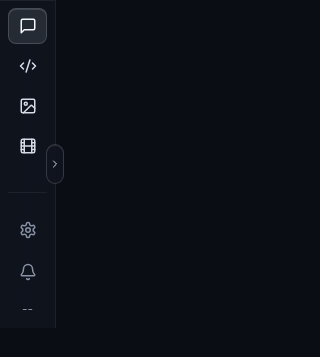
Test case: Sidebar › toggles the edge pill without navigating modules
What coordinates should you click on to do the following:
click the button with test id "sidebar-collapse-toggle"
I would click on:
 (55, 164)
Its box is [46,144,64,184].
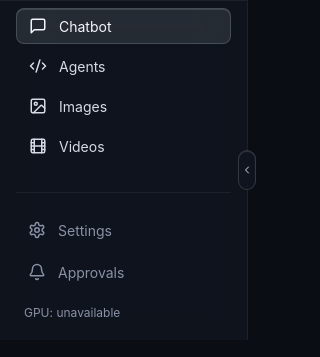
Now the button with test id "sidebar-collapse-toggle" is expanded, box [238,150,256,190]
